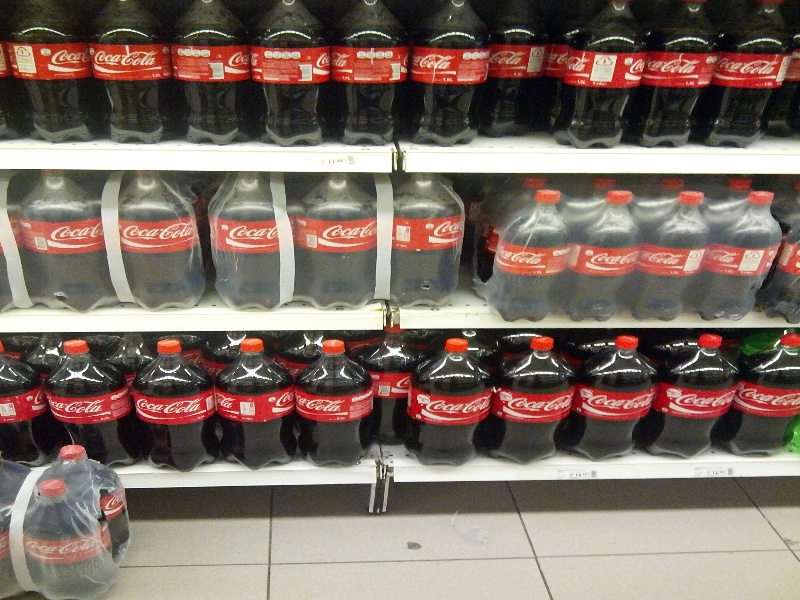lemonade: (137, 339, 227, 472), (46, 343, 140, 468), (173, 1, 254, 144), (331, 1, 411, 144), (92, 1, 168, 148), (256, 1, 332, 145), (696, 192, 780, 322), (492, 189, 573, 318), (296, 343, 378, 470), (14, 1, 90, 137), (632, 190, 710, 321), (217, 342, 298, 468), (393, 176, 467, 310), (416, 1, 485, 142), (725, 329, 800, 457), (409, 340, 482, 469), (496, 339, 570, 466), (567, 187, 635, 322), (661, 335, 728, 461), (580, 337, 646, 462)
